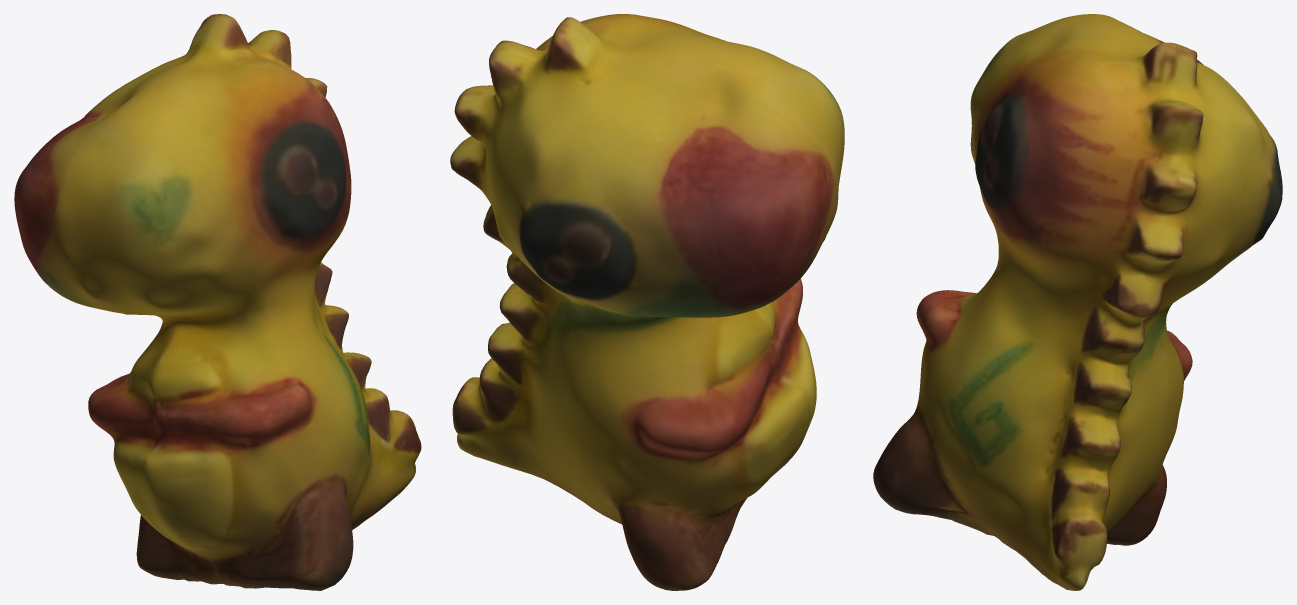
The model's file is 3DModel.obj.
3 renders of one model, left to right at view 1: azimuth 30°, elevation 25°; view 2: azimuth 150°, elevation 25°; view 3: azimuth 270°, elevation 25°, orthographic. The views are drawn at different scales.
Visible parts, largest first — view 1: 3DModel; view 2: 3DModel; view 3: 3DModel.
Boxes of the visible parts, box(x1,y1,x2,y2) form: 3DModel: box(14, 14, 421, 590); 3DModel: box(450, 14, 844, 590); 3DModel: box(873, 14, 1282, 590).
Bounding box in the file's own units: 0.3744 × 0.5212 × 0.3605.
1 material, 1 textured.
